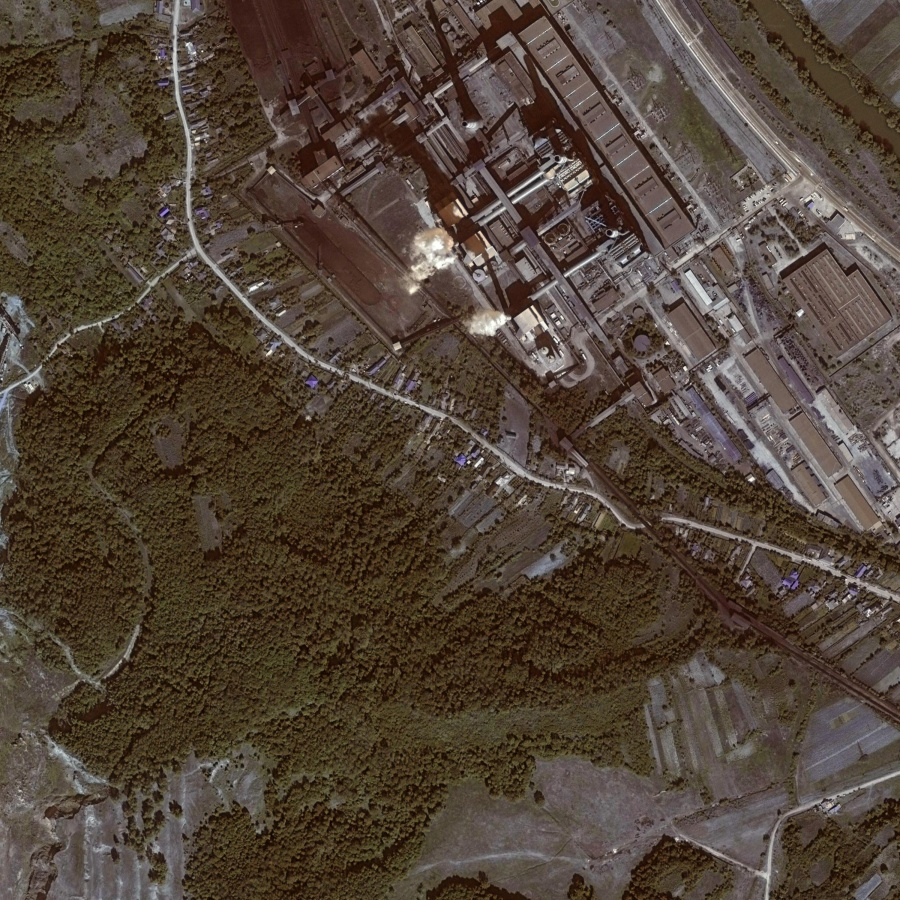PowerPlant: (294, 136, 509, 365)
